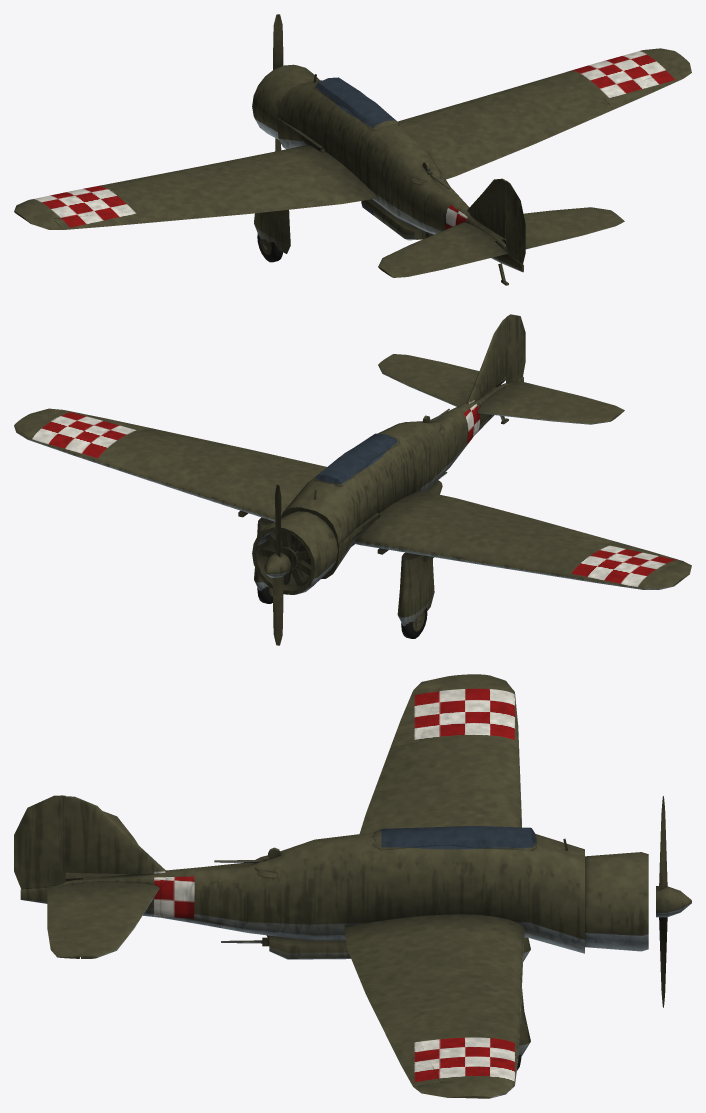
Rendered from PZL23B.fbx.
3 renders of one model, top to bottom at view 1: azimuth 30°, elevation 25°; view 2: azimuth 150°, elevation 25°; view 3: azimuth 270°, elevation 25°, orthographic. The views are drawn at different scales.
Parts seen in each view (by area): view 1: Chassis, Elevator_G, Elevator_D, Rudder, Aileron_D, Aileron_G, Helice_LS_1; view 2: Chassis, Elevator_G, Rudder, Helice_LS_1, Elevator_D, Roue_Avant, Aileron_D, Aileron_G, Bloc_Moteur_1; view 3: Chassis, Rudder, Elevator_D, Aileron_G, Aileron_D, Helice_LS_1, Bloc_Moteur_1.
Part boxes in pixels (<box>): Chassis: <box>14,48,691,272</box>; Elevator_G: <box>384,241,507,277</box>; Elevator_D: <box>504,214,624,249</box>; Rudder: <box>506,180,525,263</box>; Aileron_D: <box>603,67,682,109</box>; Aileron_G: <box>53,211,149,229</box>; Helice_LS_1: <box>273,14,283,151</box>; Chassis: <box>14,318,691,626</box>; Elevator_G: <box>504,380,624,417</box>; Rudder: <box>506,314,525,383</box>; Helice_LS_1: <box>272,484,283,645</box>; Elevator_D: <box>384,354,505,386</box>; Roue_Avant: <box>257,587,427,638</box>; Aileron_D: <box>53,410,149,431</box>; Aileron_G: <box>603,541,682,565</box>; Bloc_Moteur_1: <box>264,552,291,577</box>; Chassis: <box>20,674,648,1098</box>; Rudder: <box>14,795,65,889</box>; Elevator_D: <box>47,884,83,958</box>; Aileron_G: <box>390,686,440,747</box>; Aileron_D: <box>390,1039,441,1086</box>; Helice_LS_1: <box>659,796,667,1007</box>; Bloc_Moteur_1: <box>656,886,691,917</box>.
Bounding box in the file's own units: 1394 × 947 × 368.
1 material, 1 textured.
